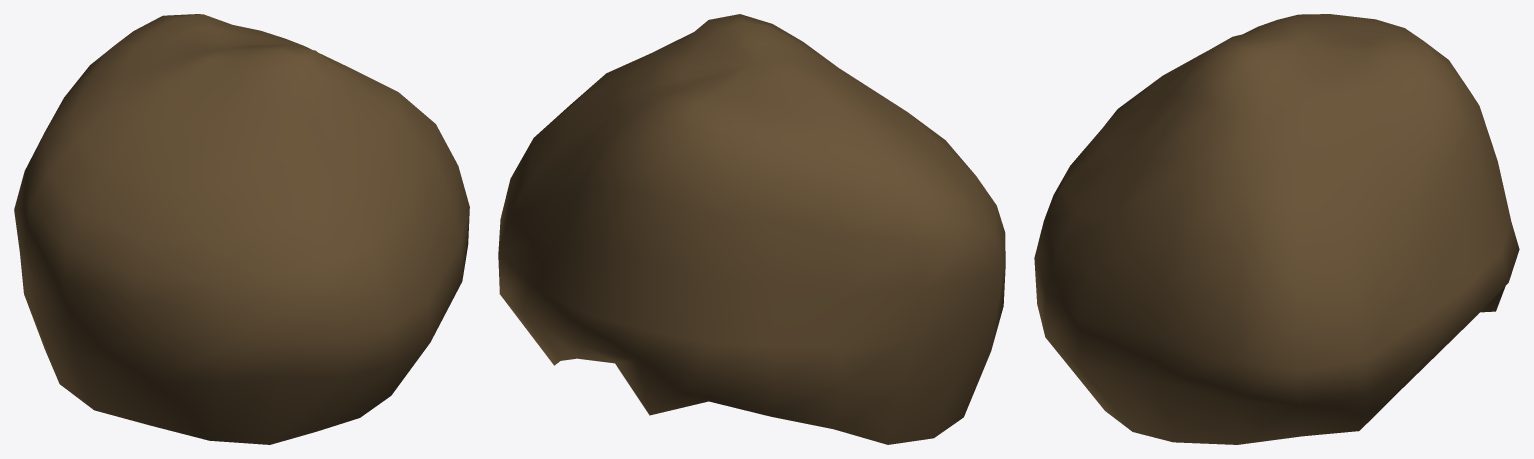
File: hair_afro_3.fbx
3 renders of one model, left to right at view 1: azimuth 30°, elevation 25°; view 2: azimuth 150°, elevation 25°; view 3: azimuth 270°, elevation 25°, orthographic. The views are drawn at different scales.
Parts seen in each view (by area): view 1: pSphere16; view 2: pSphere16; view 3: pSphere16.
Part boxes in pixels (bbox=[...]): pSphere16: bbox=[14, 14, 469, 444]; pSphere16: bbox=[498, 14, 1005, 444]; pSphere16: bbox=[1034, 14, 1519, 444].
Size of the model in its own units: 2.58 by 1.9 by 2.36.
